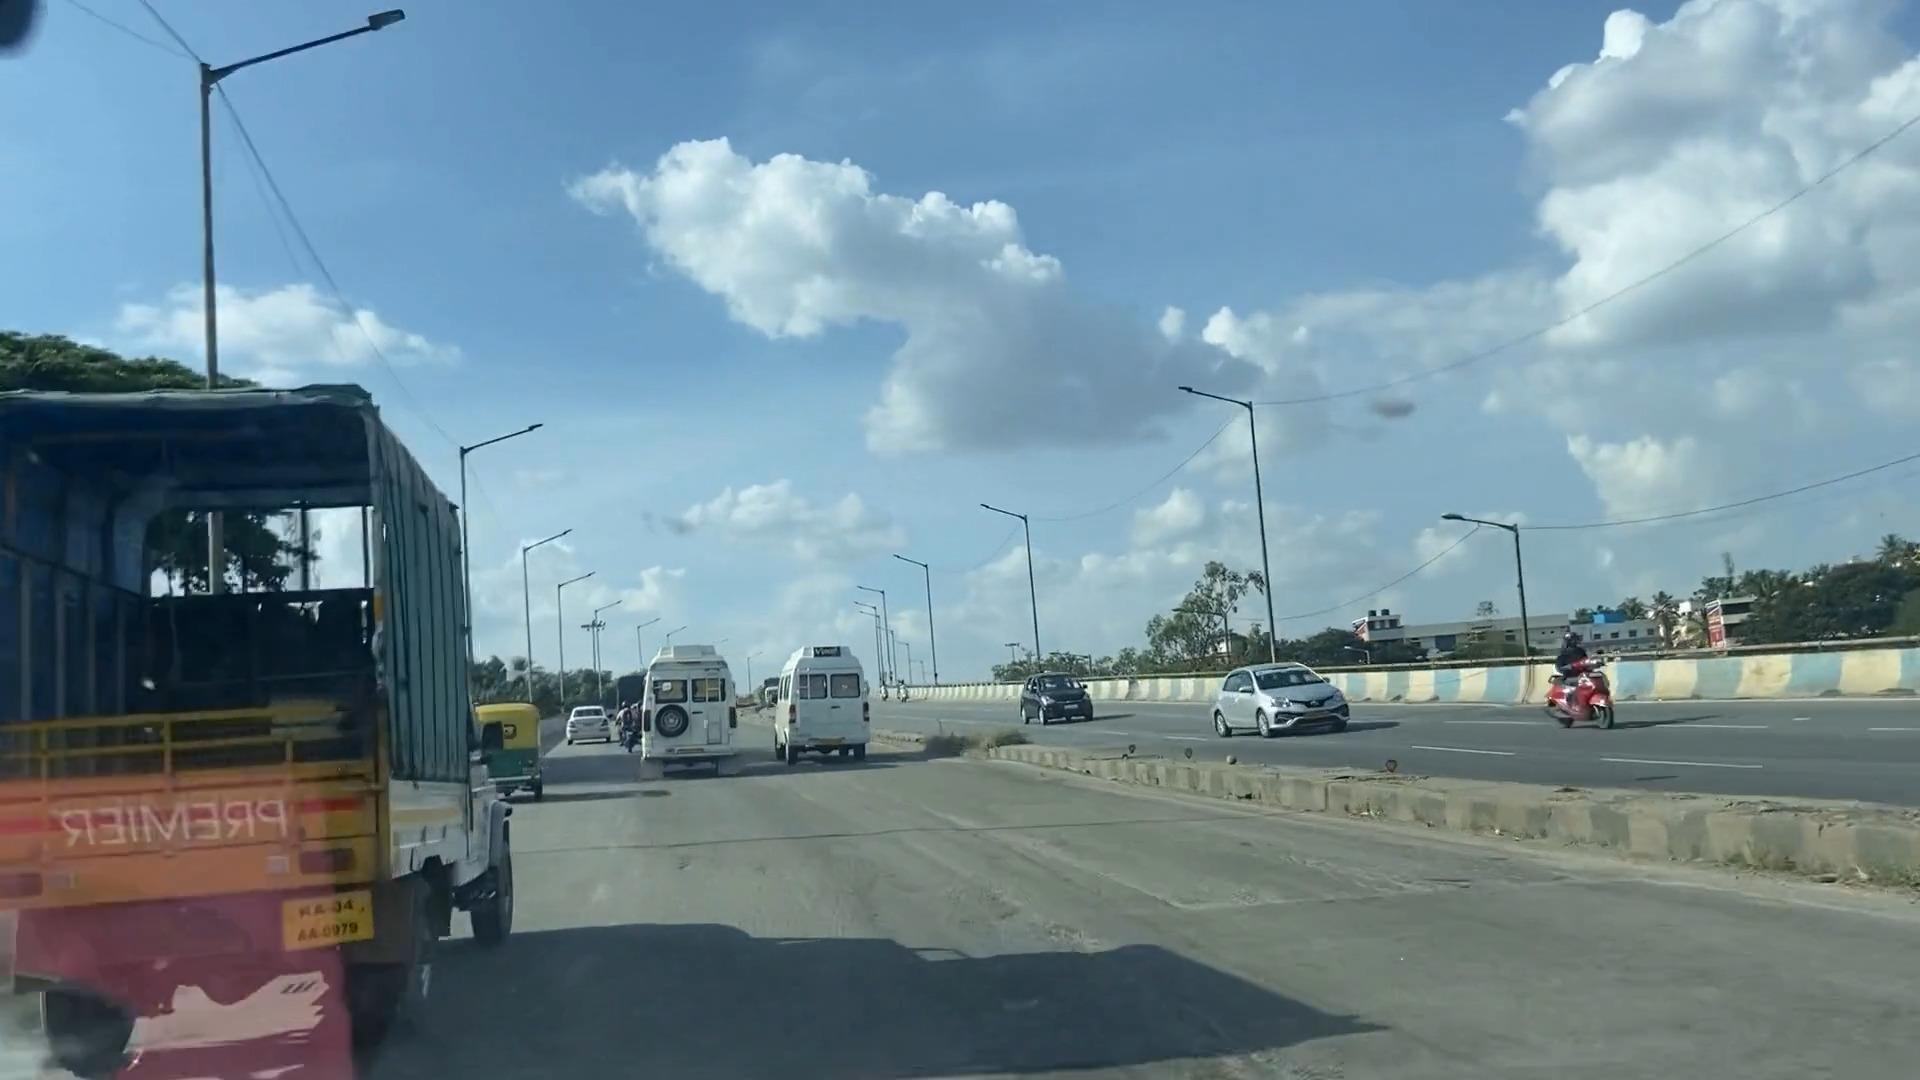HMV: (0, 390, 502, 1063), (629, 642, 733, 770), (786, 634, 866, 757)
RoadDamages: (905, 831, 1224, 1080)
